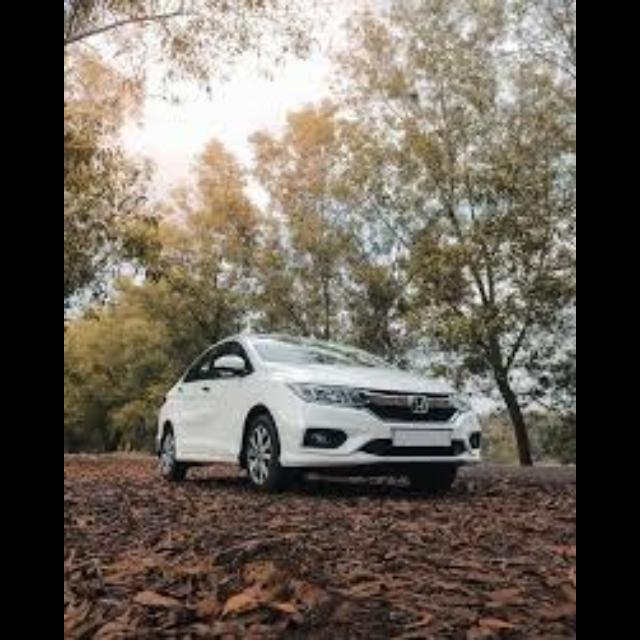vehicles: (148, 321, 490, 497)
